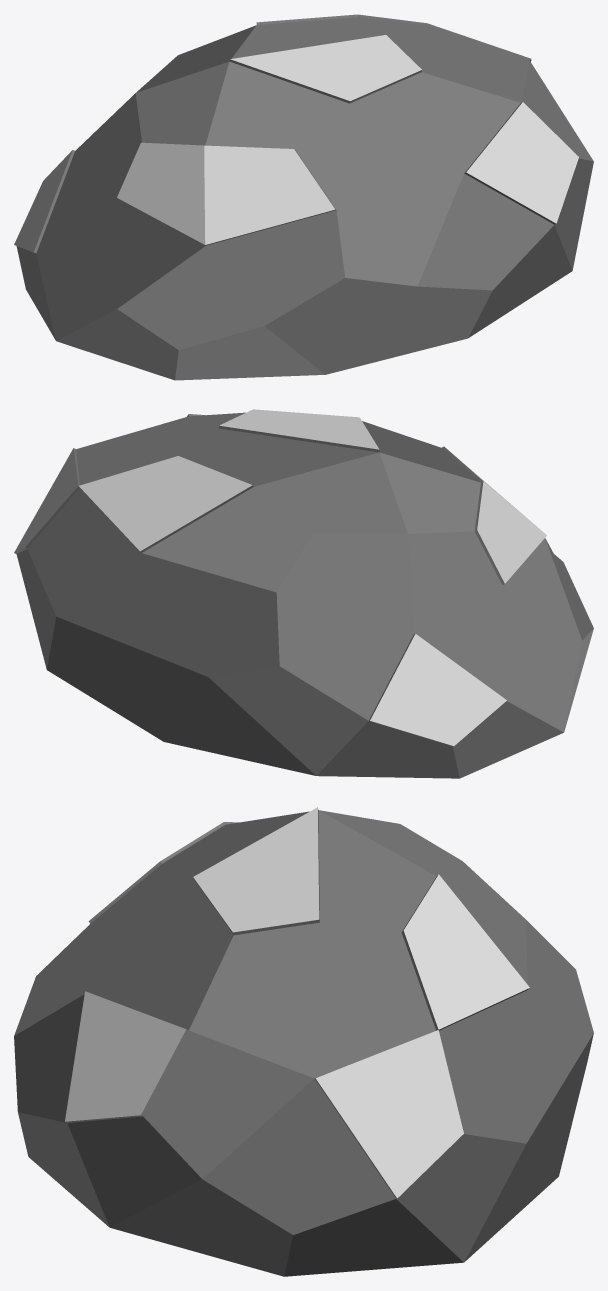
File: stone_1.glb
3 views of the same model, one above another, from view 1: azimuth 30°, elevation 25°; view 2: azimuth 150°, elevation 25°; view 3: azimuth 270°, elevation 25° (orthographic). The views are drawn at different scales.
Visible parts, largest first — view 1: Icosphere; view 2: Icosphere; view 3: Icosphere.
Boxes of the visible parts, bbox=[...] form: Icosphere: bbox=[14, 14, 593, 380]; Icosphere: bbox=[14, 409, 593, 778]; Icosphere: bbox=[14, 807, 593, 1276].
Size of the model in its own units: 2.08 by 0.9512 by 1.66.
1 material, 1 textured.
